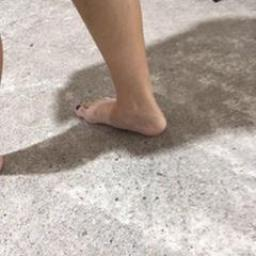Medial View -Right Foot-: (70, 70, 180, 150)
